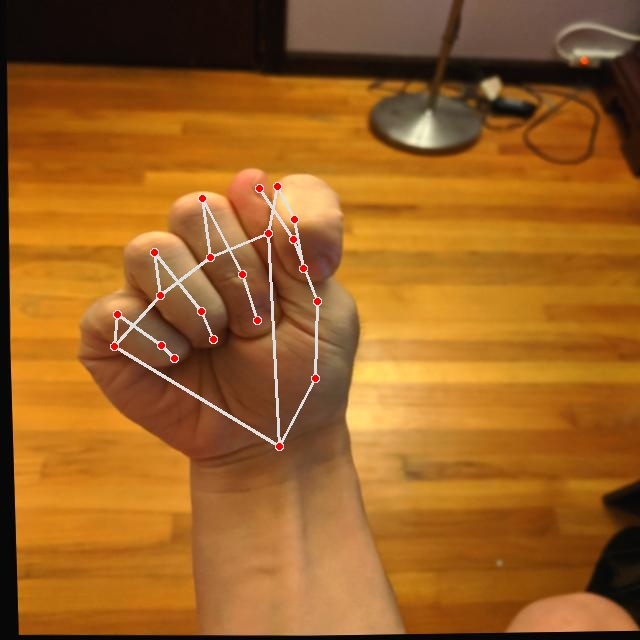T: (63, 161, 371, 471)
